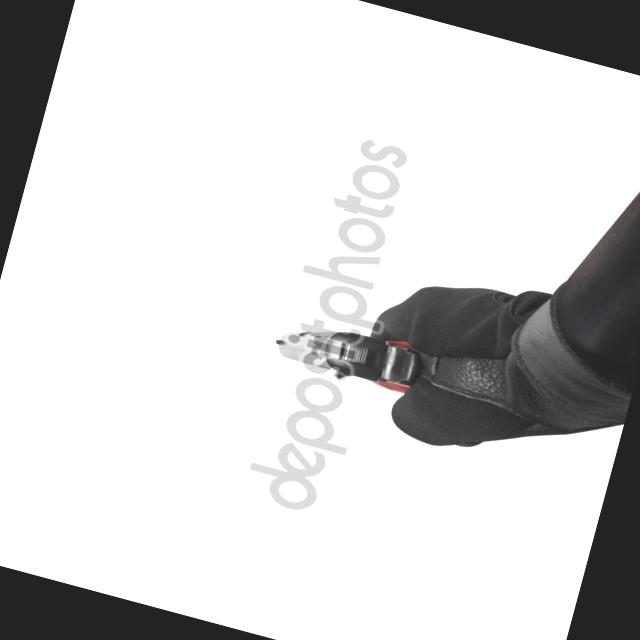handgun: (261, 305, 517, 424)
